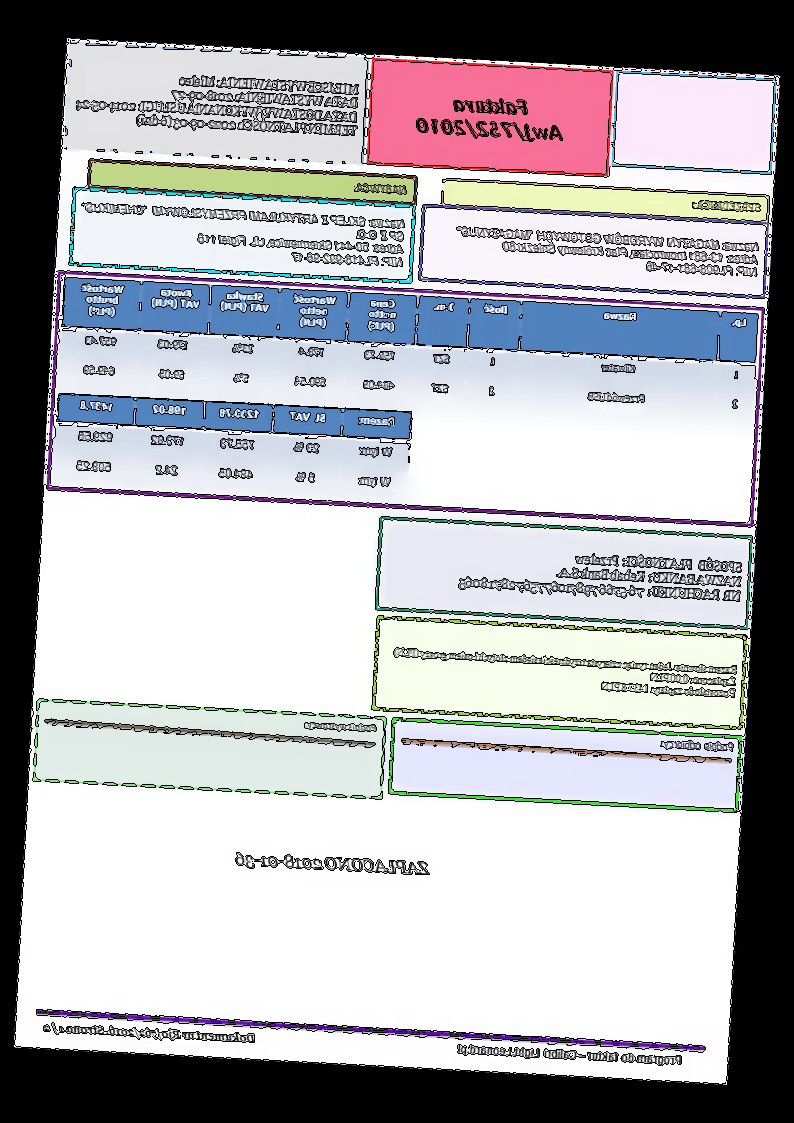Table: (58, 276, 760, 426), (52, 391, 414, 503)
TextBox: (77, 198, 409, 270), (73, 65, 361, 141), (390, 645, 739, 701), (458, 540, 744, 607), (452, 222, 761, 280), (411, 90, 568, 146), (455, 1039, 685, 1069), (40, 1017, 257, 1048), (229, 847, 434, 879), (658, 733, 736, 754), (690, 194, 764, 215), (305, 716, 381, 735), (352, 178, 411, 197)
